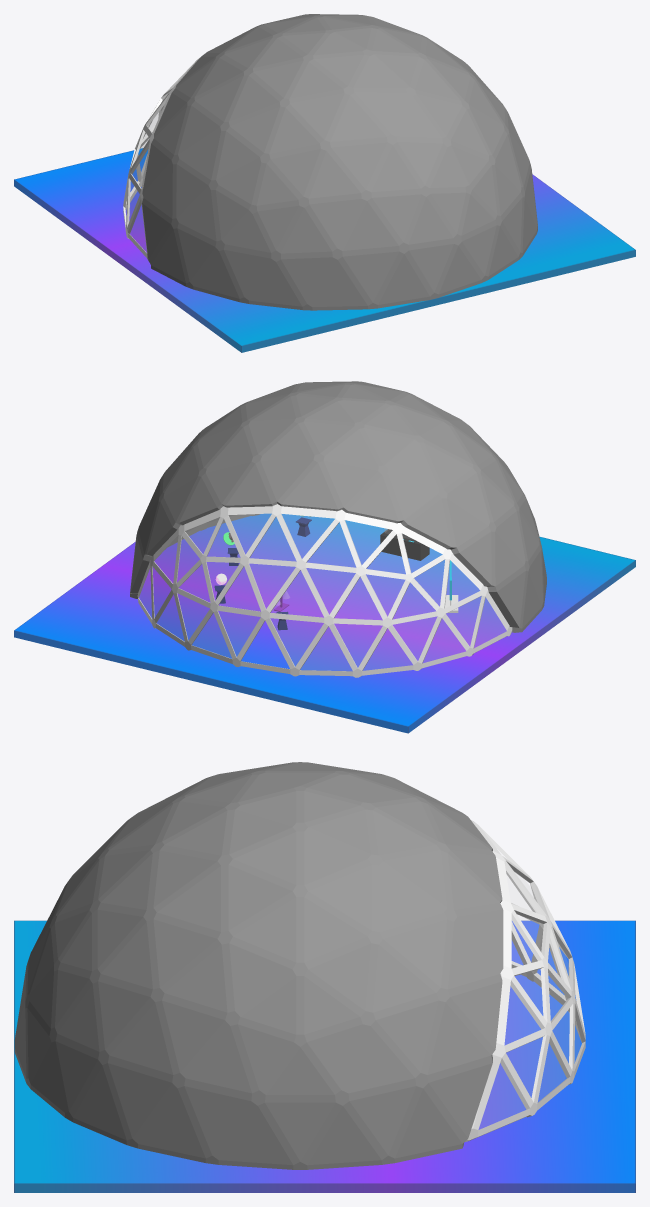
File: museum8.gltf
The picture shows the model from 3 angles, top to bottom: view 1: azimuth 30°, elevation 25°; view 2: azimuth 150°, elevation 25°; view 3: azimuth 270°, elevation 25°; orthographic projection. The views are drawn at different scales.
Visible parts, largest first — view 1: domoRecubrimiento, suelo, domoEsqueleto, domoVidrio001; view 2: suelo, domoRecubrimiento, domoVidrio001, domoEsqueleto, baseExpositor; view 3: domoRecubrimiento, suelo, domoEsqueleto, domoVidrio001.
Part boxes in pixels (left/top/right/bottom): domoRecubrimiento: left=142, top=14, right=537, bottom=310; suelo: left=14, top=148, right=635, bottom=352; domoEsqueleto: left=123, top=58, right=199, bottom=260; domoVidrio001: left=129, top=106, right=163, bottom=252; suelo: left=14, top=513, right=635, bottom=733; domoRecubrimiento: left=130, top=381, right=546, bottom=632; domoVidrio001: left=140, top=514, right=506, bottom=670; domoEsqueleto: left=137, top=504, right=512, bottom=677; baseExpositor: left=380, top=529, right=429, bottom=560; domoRecubrimiento: left=14, top=762, right=503, bottom=1169; suelo: left=14, top=920, right=635, bottom=1192; domoEsqueleto: left=465, top=820, right=585, bottom=1141; domoVidrio001: left=479, top=871, right=579, bottom=1129.
Bounding box in the file's own units: 56.72 × 27.14 × 56.72.
25 materials, 2 textured.
